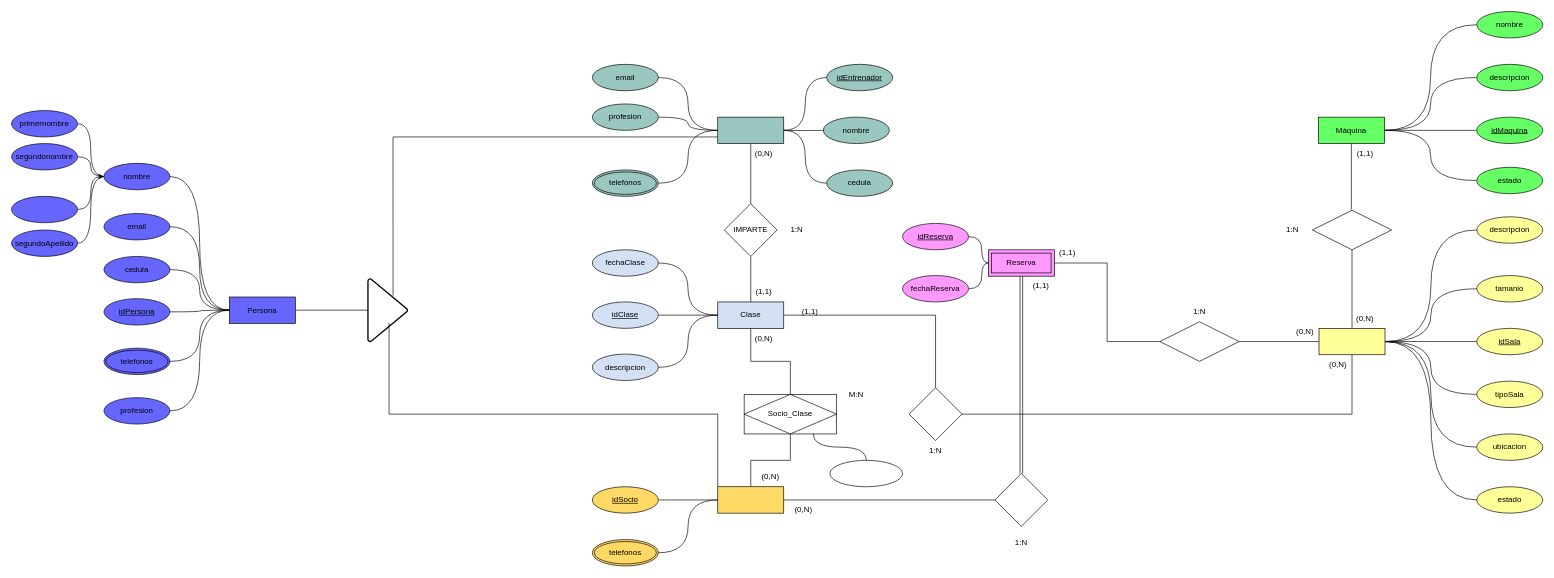
This 1554x578 diagram has some shape labels left out. Each missing label, with the centre of its shape:
ASIGNA: (1199,341)
DICTA: (935,414)
Entrenador: (750,130)
fechaInscipcion: (866,473)
ISA: (387,310)
primerApellido: (44,209)
REALIZA: (1021,499)
Sala: (1351,341)
Socio: (750,499)
TIENE: (1352,230)
